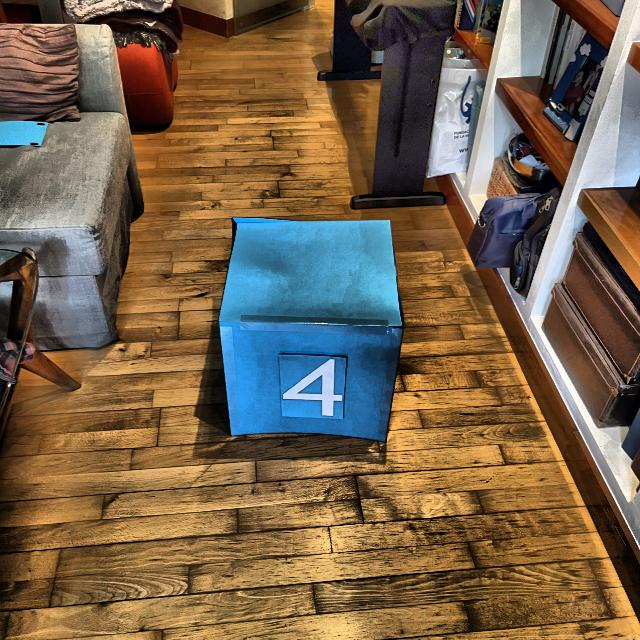blue box: (217, 215, 400, 442)
four: (283, 356, 347, 418)
